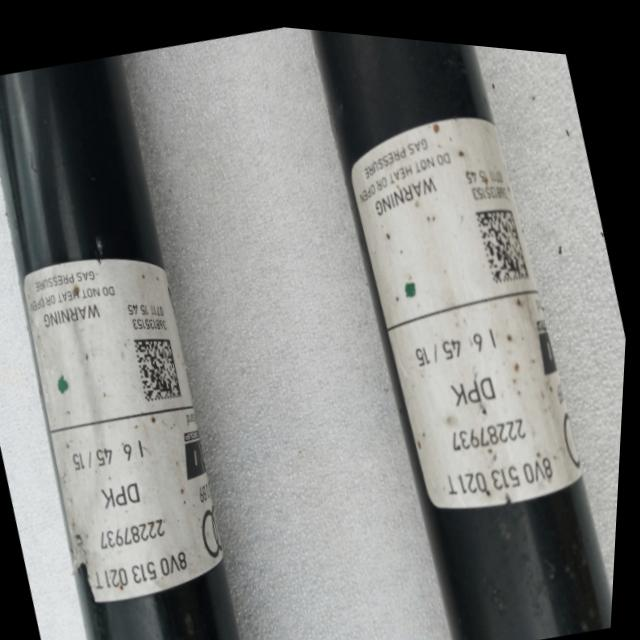datamatrix: (472, 191, 535, 278), (133, 326, 189, 403)
